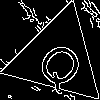Q: (32, 32, 94, 95)
